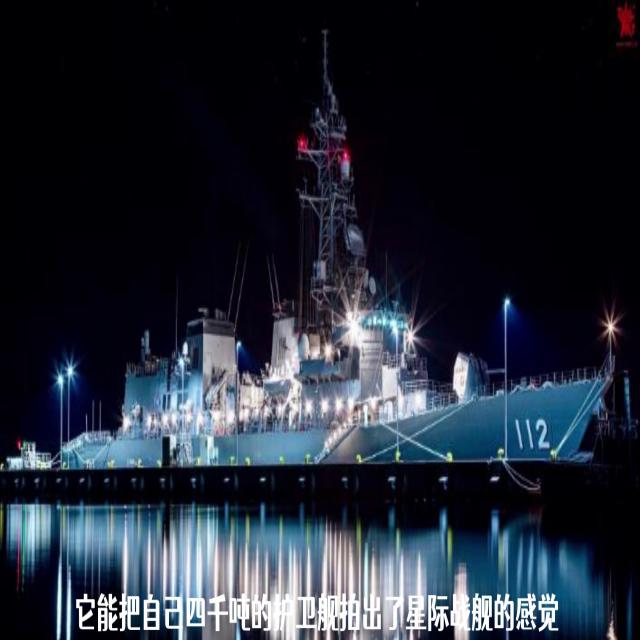navalvessels: (62, 97, 640, 557)
